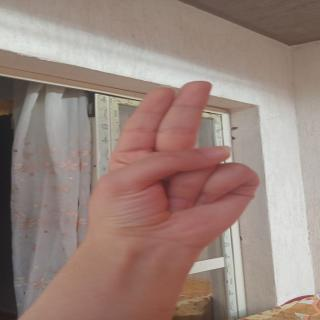TA: (85, 72, 269, 252)
